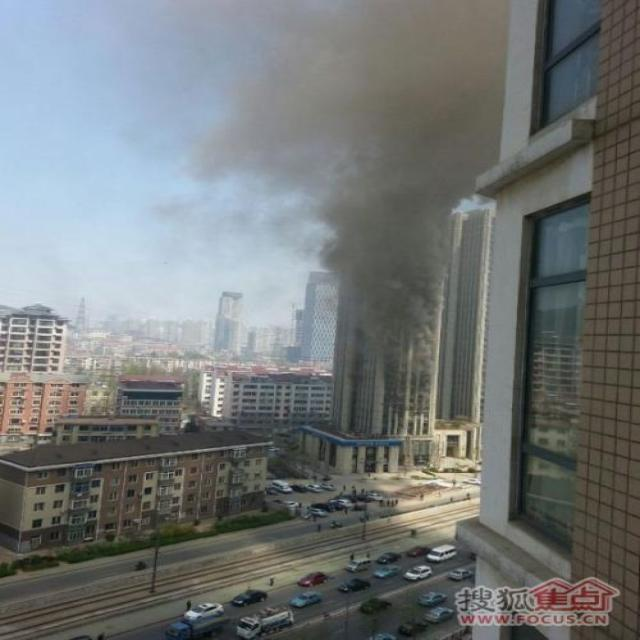smoke: (203, 0, 498, 361)
